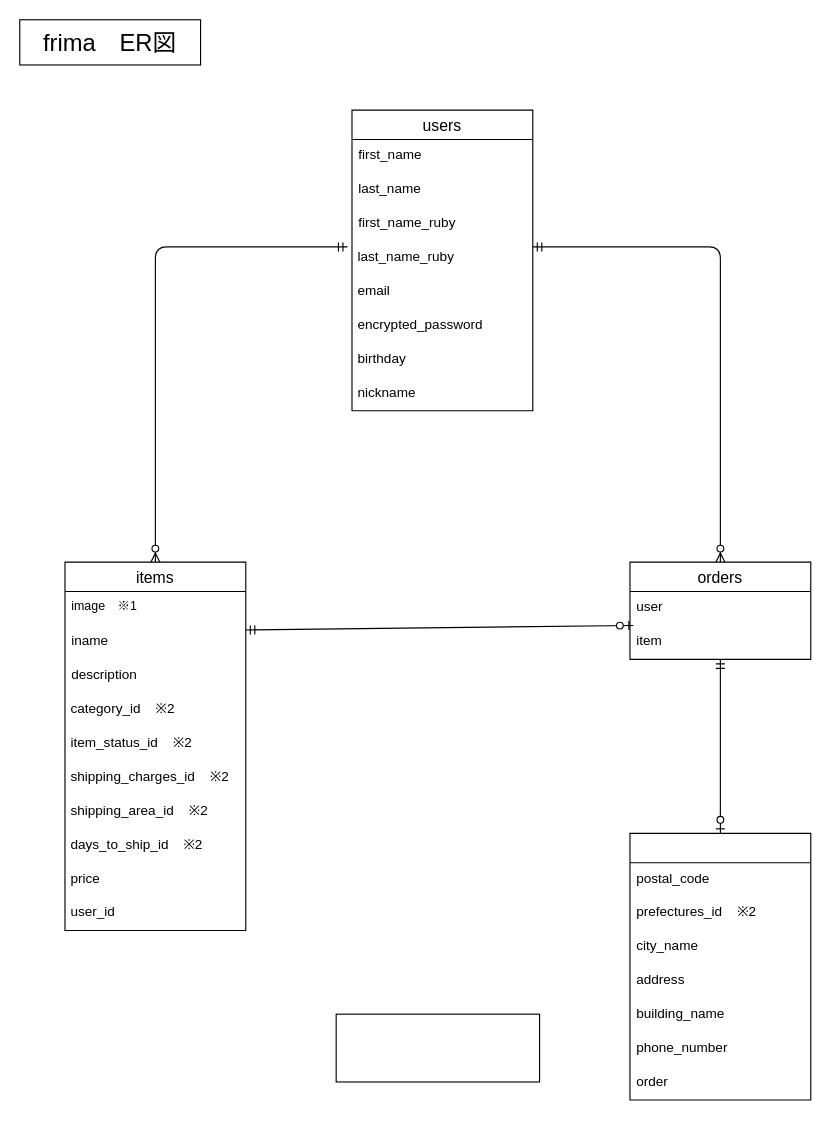
Image size: 831x1123. Some labels were removed from this diagram. The box of each missing label's shape, as (x1, y1, x2, y2) in pixels:
receives: (629, 832, 811, 1100)
※1 Active_Storageで保存 ※2 Active_Hash使用: (335, 1013, 540, 1082)
